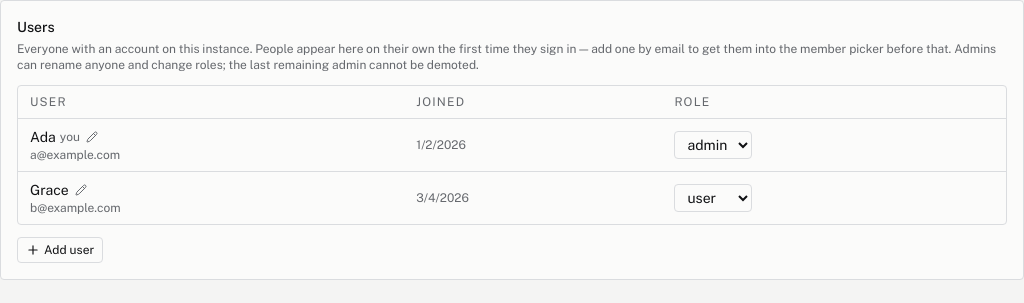
Test: renaming a user › seeds the field with the current name
This screenshot has width=1024, height=303.
Expected: the text "Grace" is shown, [30,180,69,200]
Click the button named "Rename b@example.com": (81, 190) [73,182,89,198]
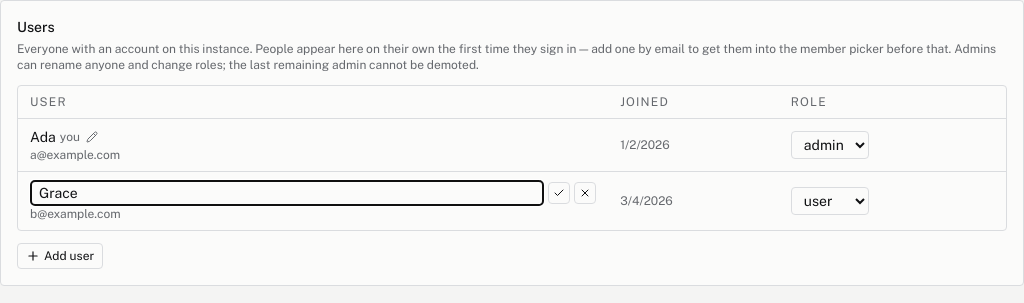
Now the field named "display name for b@example.com" holds "Grace", box [30,180,544,206]
